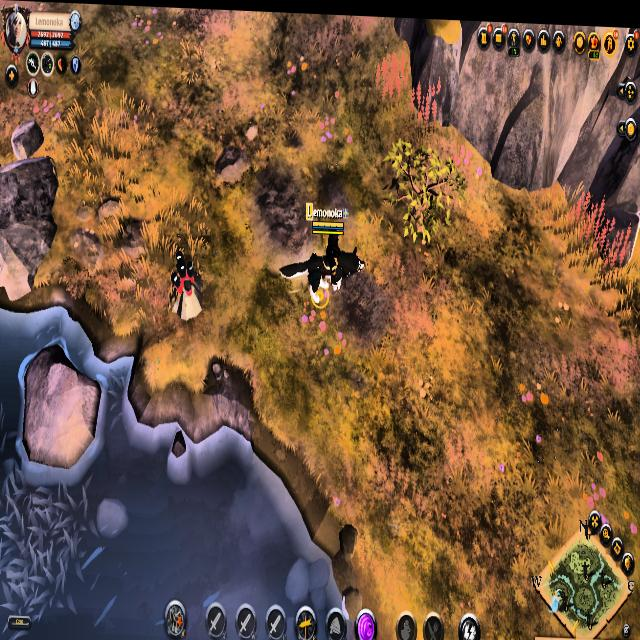ore tier 5: (164, 247, 205, 321)
